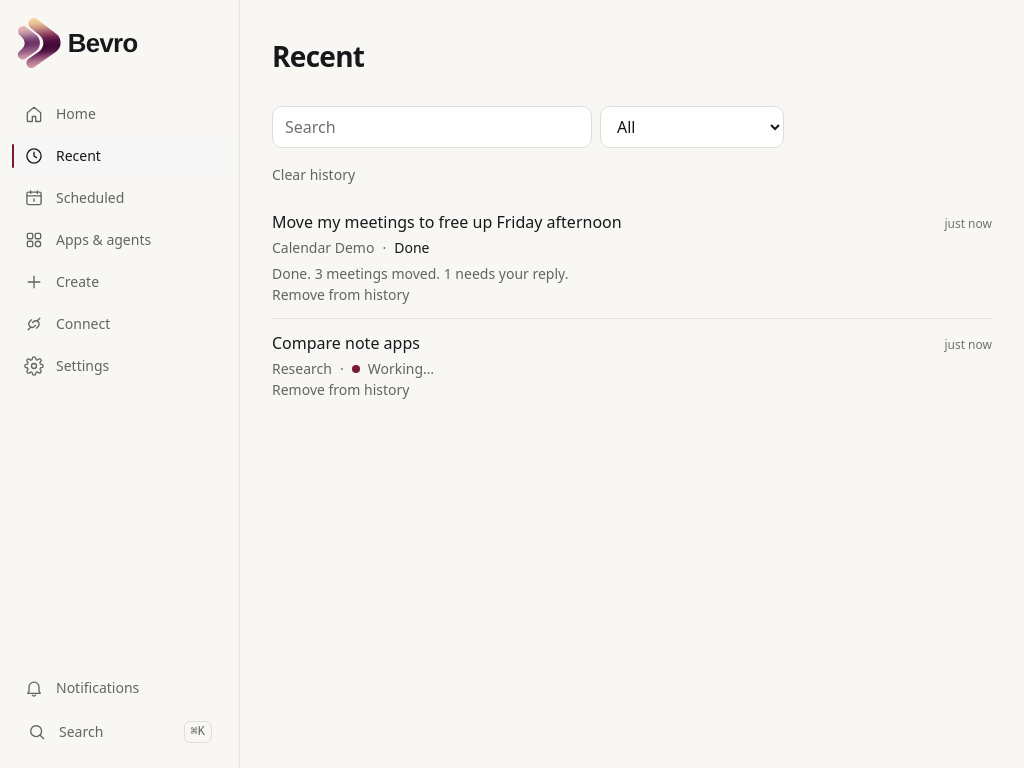
it: recent is a list with title, provider, state and summary, and search hits the API
Check: the number of list items is 2, box [272,198,992,318]; [272,318,992,413]
Check: the list named "Recent work" shows "Move my meetings to free up Friday afternoon", box [264,198,1000,284]
Type "friday" into the search field named "Search recent work" at (432, 127), box [272,106,592,148]
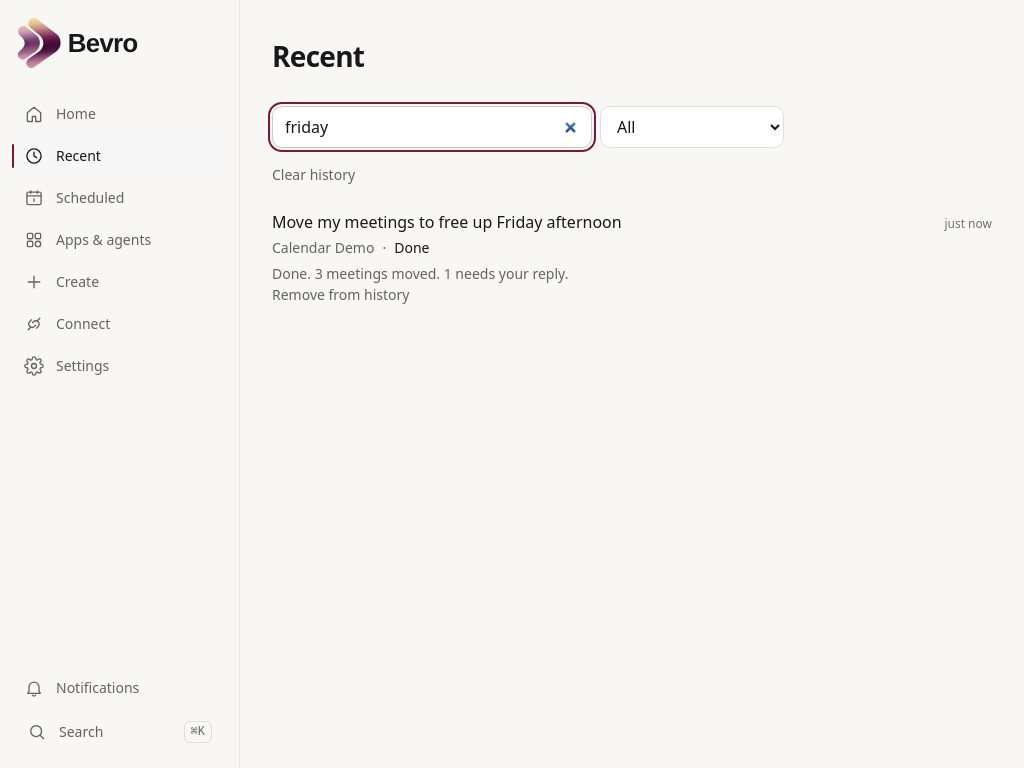
Check: the number of list items is 1, box [272,198,992,318]
